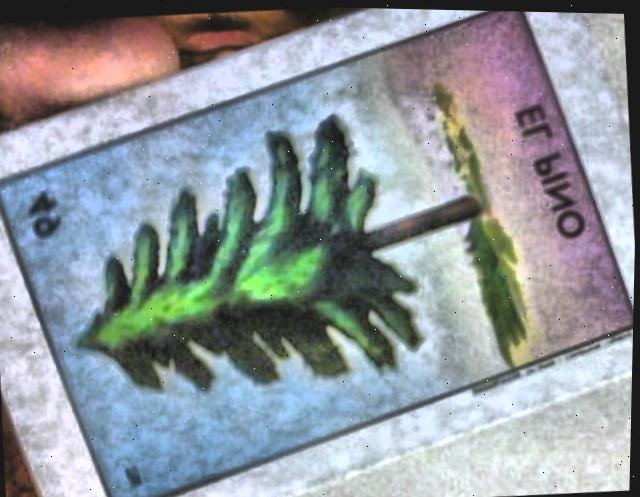El Pino: (0, 8, 635, 497)
